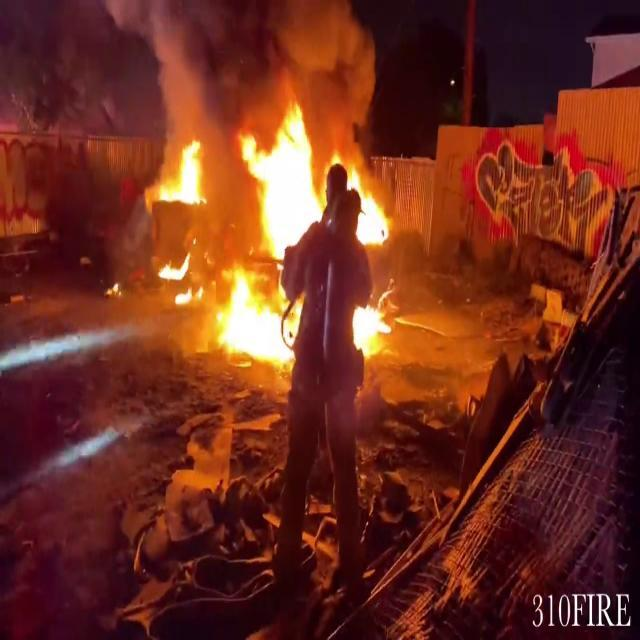Fire: (148, 91, 402, 367), (155, 134, 209, 213)
Smoke: (117, 0, 381, 139)
